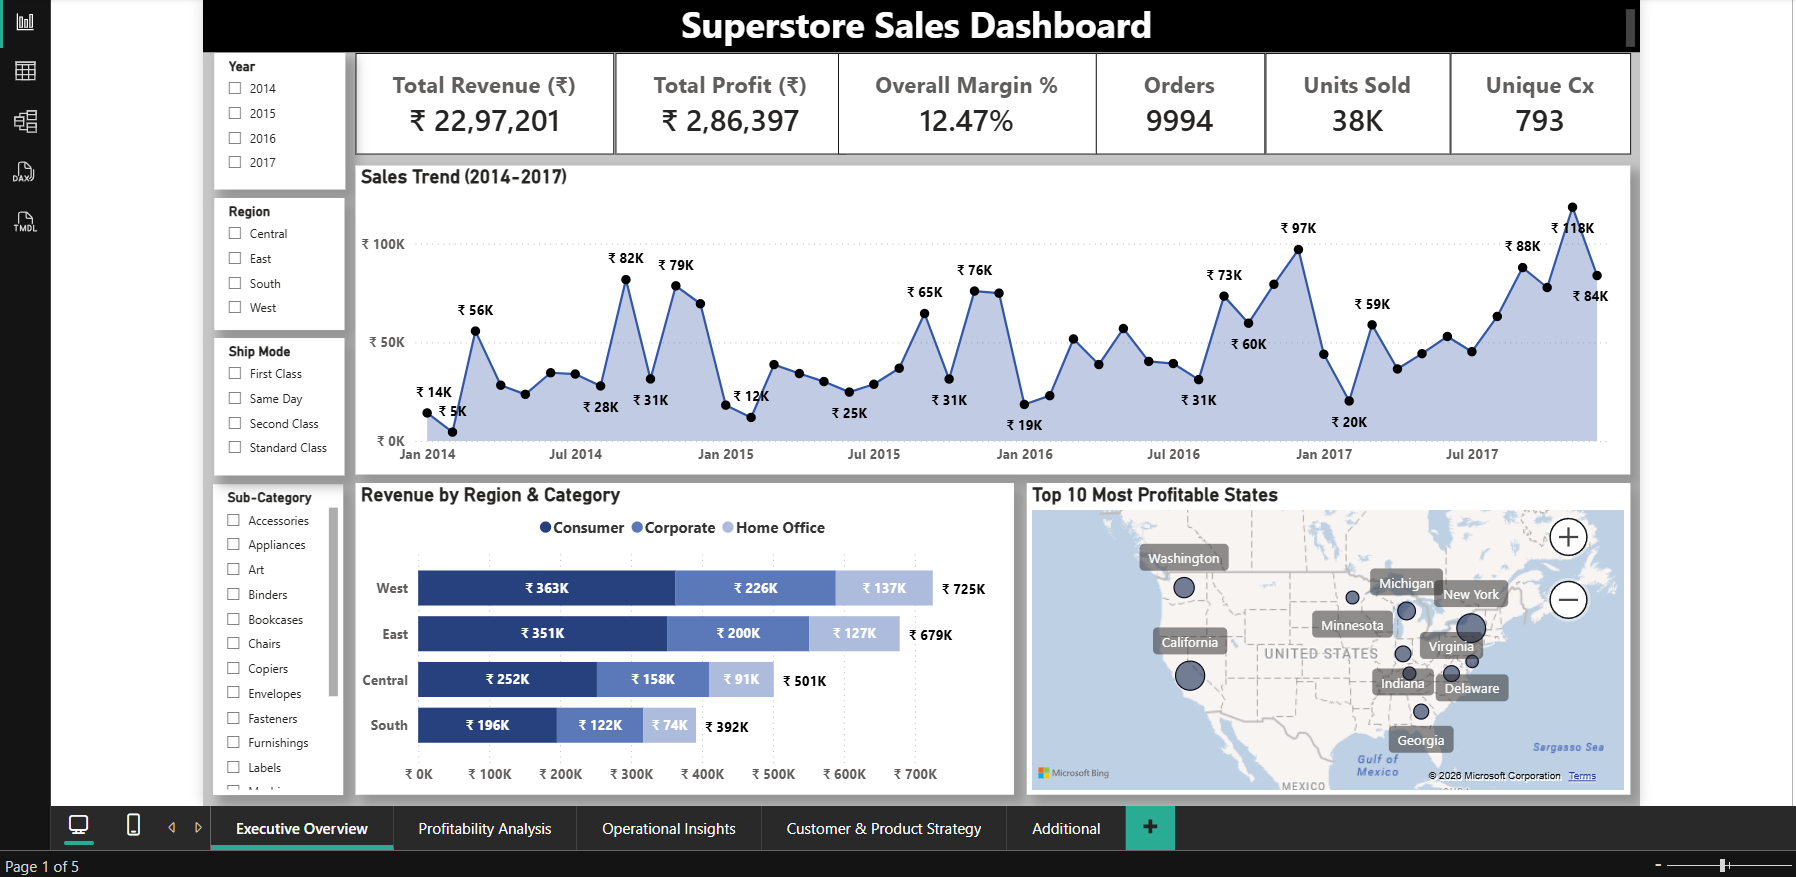

What the dashboard file says about the page in this screenshot:
{"tool":"powerbi","page":{"name":"Executive Overview","canvas":[1280,720],"ordinal":0},"visuals":[{"type":"cardVisual","fields":{"Data":["Sum(Superstore_Sales_Cleaned.Sales)"]},"box":[136.2,49.1,230.7,90.8],"z":0},{"type":"cardVisual","fields":{"Data":["Sum(Superstore_Sales_Cleaned.Profit)"]},"box":[367.4,48.8,205.8,90.7],"z":1000},{"type":"cardVisual","fields":{"Data":["CountNonNull(Superstore_Sales_Cleaned.Order ID)"]},"box":[795.1,49.1,150.9,90.8],"z":2000},{"type":"cardVisual","fields":{"Data":["Superstore_Sales_Cleaned.Overall Margin %"]},"box":[565.1,48.8,230.2,90.7],"z":3000},{"type":"slicer","fields":{"Values":["Superstore_Sales_Cleaned.Order Year"]},"box":[9.8,49.1,116.6,121.5],"z":4000},{"type":"slicer","fields":{"Values":["Superstore_Sales_Cleaned.Sub-Category"]},"box":[9.3,432.6,116.3,276.7],"z":5000},{"type":"slicer","fields":{"Values":["Superstore_Sales_Cleaned.Region"]},"box":[9.9,177.8,116,117.3],"z":6000},{"type":"slicer","fields":{"Values":["Superstore_Sales_Cleaned.Ship Mode"]},"box":[9.9,302.5,116,122.2],"z":7000},{"type":"lineChart","title":"Sales Trend (2014-2017)","fields":{"Category":["Superstore_Sales_Cleaned.Order Date.Variation.Date Hierarchy.Year","Superstore_Sales_Cleaned.Order Date.Variation.Date Hierarchy.Quarter","Superstore_Sales_Cleaned.Order Date.Variation.Date Hierarchy.Month","Superstore_Sales_Cleaned.Order Date.Variation.Date Hierarchy.Day"],"Y":["Sum(Superstore_Sales_Cleaned.Sales)"]},"box":[136,148.8,1134.9,275.6],"z":8000},{"type":"barChart","title":"Revenue by Region & Category","fields":{"Category":["Superstore_Sales_Cleaned.Region","Superstore_Sales_Cleaned.Category"],"Y":["Sum(Superstore_Sales_Cleaned.Sales)"],"Series":["Superstore_Sales_Cleaned.Segment"]},"box":[136,431.4,586,277.9],"z":9000},{"type":"map","title":" Top 10 Most Profitable States","fields":{"Category":["Superstore_Sales_Cleaned.State"],"Size":["Sum(Superstore_Sales_Cleaned.Profit)"]},"box":[733.7,431.4,537.2,277.9],"z":10000},{"type":"textbox","box":[0,1.2,1280,47.5],"z":11000},{"type":"cardVisual","fields":{"Data":["Superstore_Sales_Cleaned.Unique Customers"]},"box":[1110.4,49.1,160.7,90.8],"z":12000},{"type":"cardVisual","fields":{"Data":["Sum(Superstore_Sales_Cleaned.Quantity)"]},"box":[946,49.1,164.4,90.8],"z":13000}]}

Visuals, with their boxes on the page's 1280x720 design canvas (x1, y1, x2, y2). These are canvas units, not pixel positions in the 1796x877 screenshot, which may show the page scaled, cropped or inside an application window:
cardVisual - Sum(Superstore_Sales_Cleaned.Sales): x1=136, y1=49, x2=367, y2=140
cardVisual - Sum(Superstore_Sales_Cleaned.Profit): x1=367, y1=49, x2=573, y2=140
cardVisual - CountNonNull(Superstore_Sales_Cleaned.Order ID): x1=795, y1=49, x2=946, y2=140
cardVisual - Superstore_Sales_Cleaned.Overall Margin %: x1=565, y1=49, x2=795, y2=140
slicer - Superstore_Sales_Cleaned.Order Year: x1=10, y1=49, x2=126, y2=171
slicer - Superstore_Sales_Cleaned.Sub-Category: x1=9, y1=433, x2=126, y2=709
slicer - Superstore_Sales_Cleaned.Region: x1=10, y1=178, x2=126, y2=295
slicer - Superstore_Sales_Cleaned.Ship Mode: x1=10, y1=302, x2=126, y2=425
"Sales Trend (2014-2017)" lineChart: x1=136, y1=149, x2=1271, y2=424
"Revenue by Region & Category" barChart: x1=136, y1=431, x2=722, y2=709
" Top 10 Most Profitable States" map: x1=734, y1=431, x2=1271, y2=709
textbox: x1=0, y1=1, x2=1280, y2=49
cardVisual - Superstore_Sales_Cleaned.Unique Customers: x1=1110, y1=49, x2=1271, y2=140
cardVisual - Sum(Superstore_Sales_Cleaned.Quantity): x1=946, y1=49, x2=1110, y2=140
